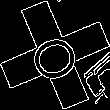O_NE: (23, 25, 87, 85)
